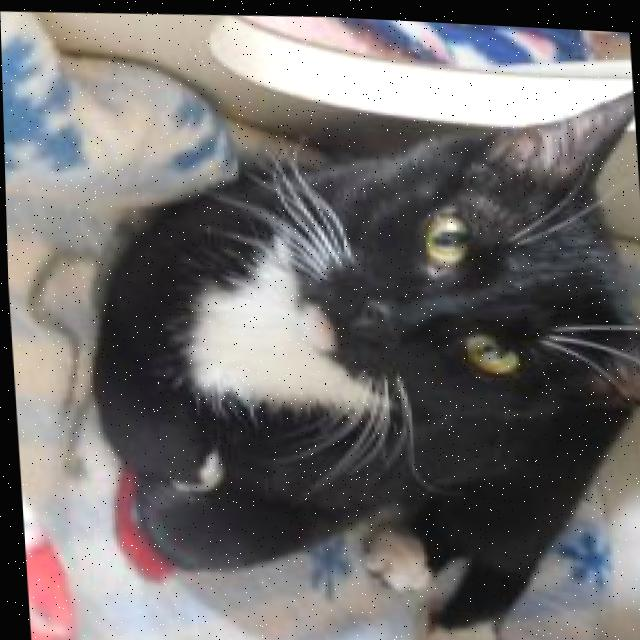Tuxedo: (71, 49, 640, 640)
